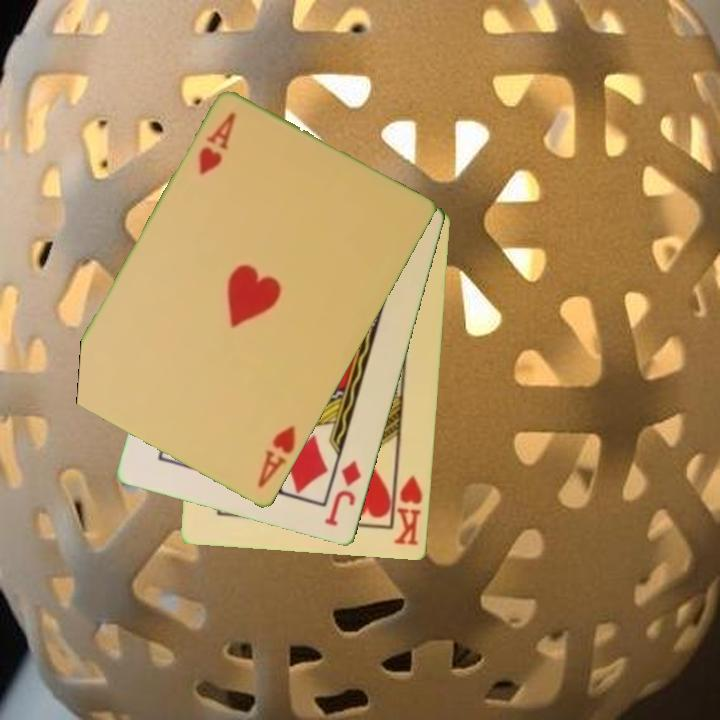Ah: (253, 422, 299, 492), (195, 109, 240, 178)
Jd: (321, 457, 365, 530)
Kh: (390, 465, 426, 549)
